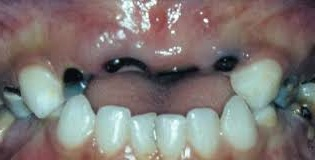Caries: (102, 55, 244, 80), (62, 65, 88, 96)
